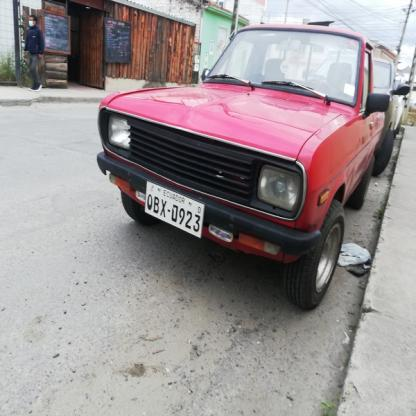Placa: (134, 171, 208, 237)
